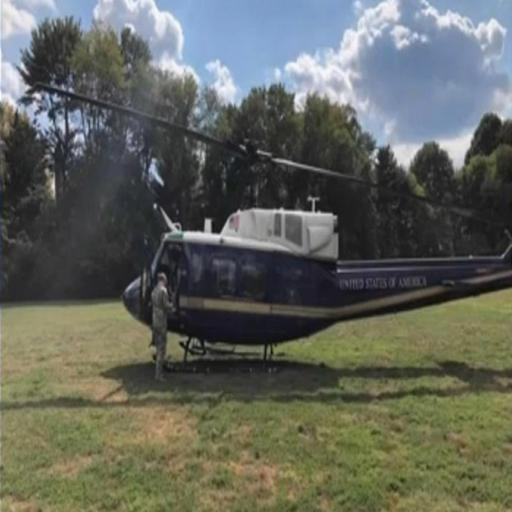helicopter: (89, 125, 501, 384)
